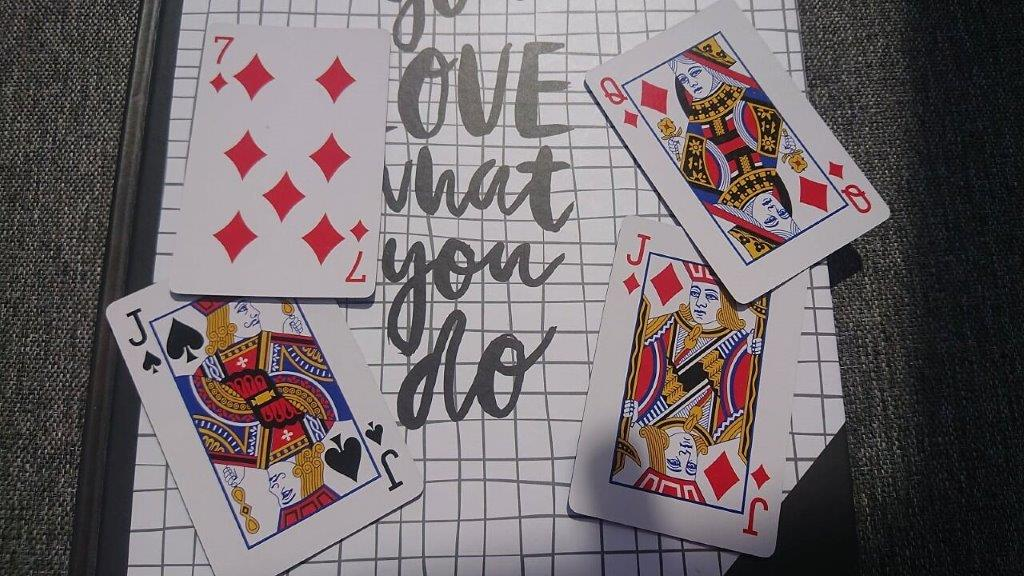7D: (206, 31, 237, 97)
JD: (619, 228, 654, 298)
JS: (122, 303, 167, 380)
QD: (594, 72, 641, 130)
